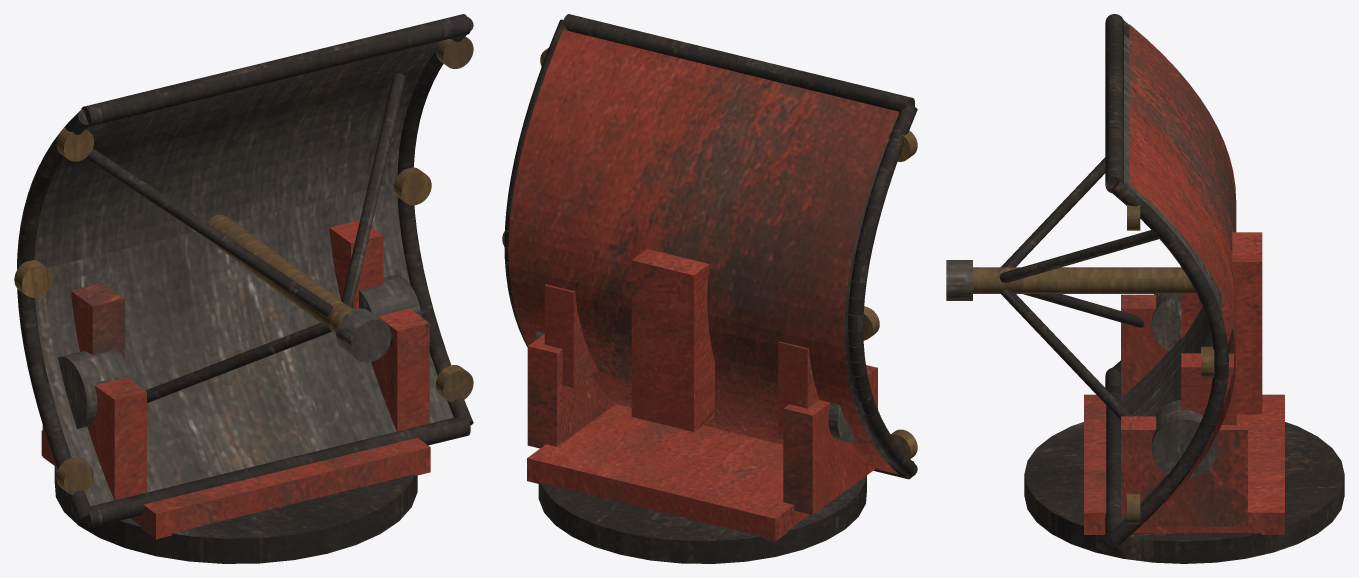
The model's file is energy_dish_v01.glb.
3 views of the same model, side by side, from view 1: azimuth 30°, elevation 25°; view 2: azimuth 150°, elevation 25°; view 3: azimuth 270°, elevation 25° (orthographic). The views are drawn at different scales.
Visible parts, largest first — view 1: CURVED_REFLECTOR, ROTARY_ADAPTER, PEDESTAL_FOOT, STRAIGHT_RIM.001, YOKE_-1, STRAIGHT_RIM, YOKE_1, FOCUS_SUPPORT.001, REFLECTOR_PIVOT_CHEEK_-1, CENTRAL_FEED, TRUNNION_-1, FOCUS_SUPPORT.003 (+10 smaller); view 2: RED_REFLECTOR_BACKING, PEDESTAL_FOOT, REAR_SPINE, ROTARY_ADAPTER, YOKE_-1, STRAIGHT_RIM.001, YOKE_1, REFLECTOR_PIVOT_CHEEK_1, REFLECTOR_PIVOT_CHEEK_-1, CURVED_REFLECTOR, TRUNNION_-1, RIM_NODE; view 3: RED_REFLECTOR_BACKING, ROTARY_ADAPTER, PEDESTAL_FOOT, YOKE_1, REAR_SPINE, CENTRAL_FEED, CURVED_REFLECTOR, STRAIGHT_RIM.001, YOKE_-1, TRUNNION_1, STRAIGHT_RIM, REFLECTOR_PIVOT_CHEEK_1 (+7 smaller).
Boxes of the visible parts, x1,y1,x2,y2 form: CURVED_REFLECTOR: (34,41,453,506); ROTARY_ADAPTER: (54,466,417,563); PEDESTAL_FOOT: (41,430,430,539); STRAIGHT_RIM.001: (81,14,470,126); YOKE_-1: (42,377,146,500); STRAIGHT_RIM: (82,417,470,528); YOKE_1: (371,308,429,431); FOCUS_SUPPORT.001: (85,148,332,316); REFLECTOR_PIVOT_CHEEK_-1: (71,283,124,359); CENTRAL_FEED: (206,214,353,333); TRUNNION_-1: (58,349,131,428); FOCUS_SUPPORT.003: (341,73,405,308); RED_REFLECTOR_BACKING: (508,29,898,474); PEDESTAL_FOOT: (527,404,809,541); REAR_SPINE: (631,249,714,431); ROTARY_ADAPTER: (538,475,866,563); YOKE_-1: (783,365,877,514); STRAIGHT_RIM.001: (562,14,914,113); YOKE_1: (527,334,615,448); REFLECTOR_PIVOT_CHEEK_1: (544,284,597,387); REFLECTOR_PIVOT_CHEEK_-1: (778,341,819,438); CURVED_REFLECTOR: (844,113,898,463); TRUNNION_-1: (828,403,855,442); RIM_NODE: (891,429,917,463); RED_REFLECTOR_BACKING: (1129,24,1236,536); ROTARY_ADAPTER: (1024,422,1344,563); PEDESTAL_FOOT: (1084,394,1284,534); YOKE_1: (1121,416,1247,526); REAR_SPINE: (1221,232,1262,414); CENTRAL_FEED: (973,267,1196,293); CURVED_REFLECTOR: (1121,34,1221,522); STRAIGHT_RIM.001: (1105,14,1123,193); YOKE_-1: (1121,294,1167,397); TRUNNION_1: (1151,400,1217,478); STRAIGHT_RIM: (1105,367,1122,547); REFLECTOR_PIVOT_CHEEK_1: (1181,353,1236,424).
Size of the model in its own units: 2.03 by 2.15 by 1.94.
4 materials, 4 textured.
